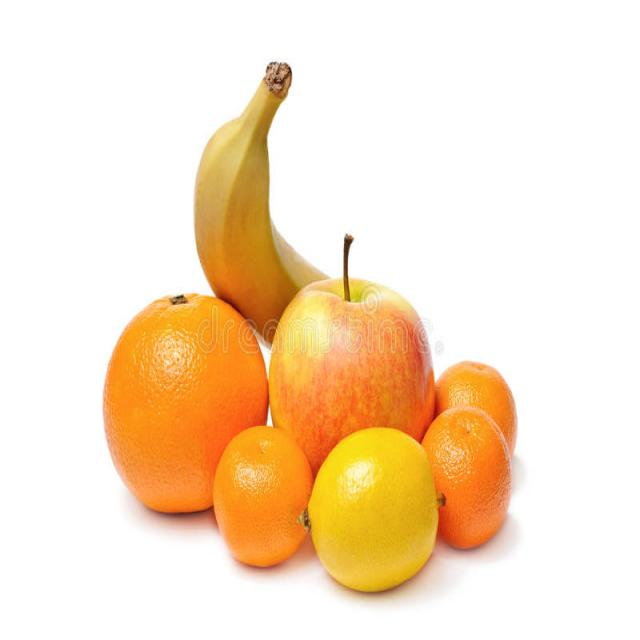apple: (273, 232, 437, 508)
banana: (180, 54, 362, 358)
lemon: (301, 422, 438, 597)
orange: (103, 291, 270, 514), (212, 426, 314, 570), (419, 408, 511, 552), (436, 361, 518, 485)
